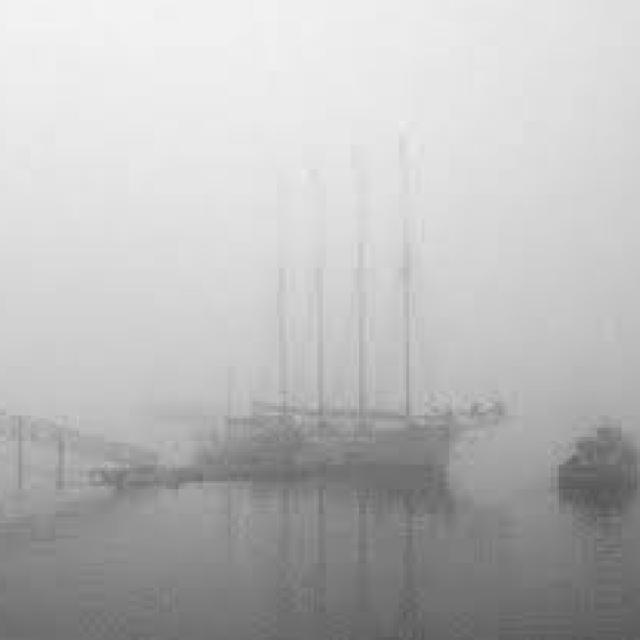fishing boat: (161, 239, 501, 485), (545, 421, 640, 504)
